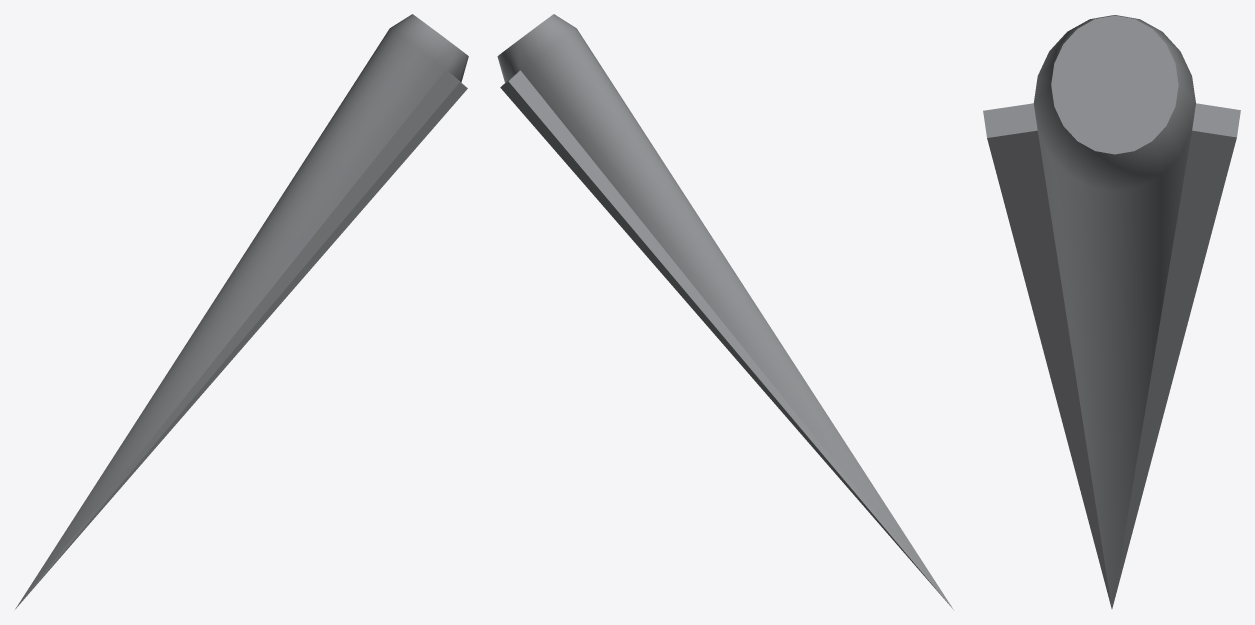
File: weapon.fbx
3 views of the same model, side by side, from view 1: azimuth 30°, elevation 25°; view 2: azimuth 150°, elevation 25°; view 3: azimuth 270°, elevation 25° (orthographic). The views are drawn at different scales.
Visible parts, largest first — view 1: spear; view 2: spear; view 3: spear.
Part boxes in pixels (bbox=[...]): spear: bbox=[15, 14, 468, 609]; spear: bbox=[497, 14, 953, 609]; spear: bbox=[983, 15, 1240, 608].
Size of the model in its own units: 5.78 by 6.06 by 1.43.
1 material, 1 textured.
